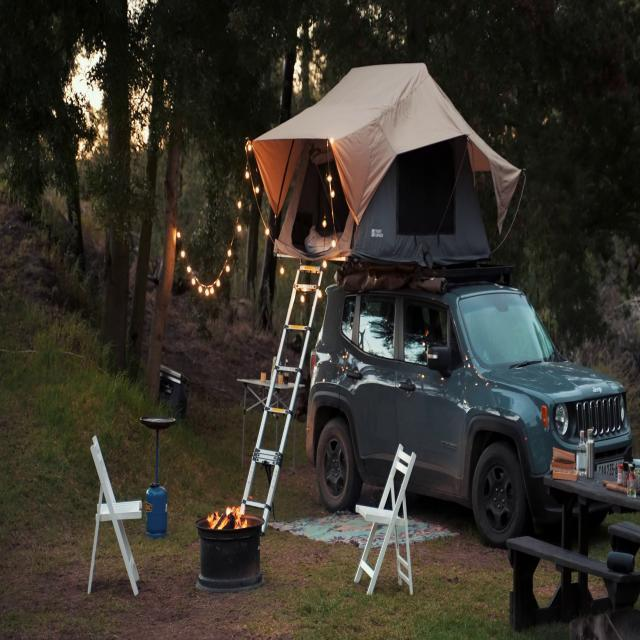Fire: (208, 494, 248, 536)
